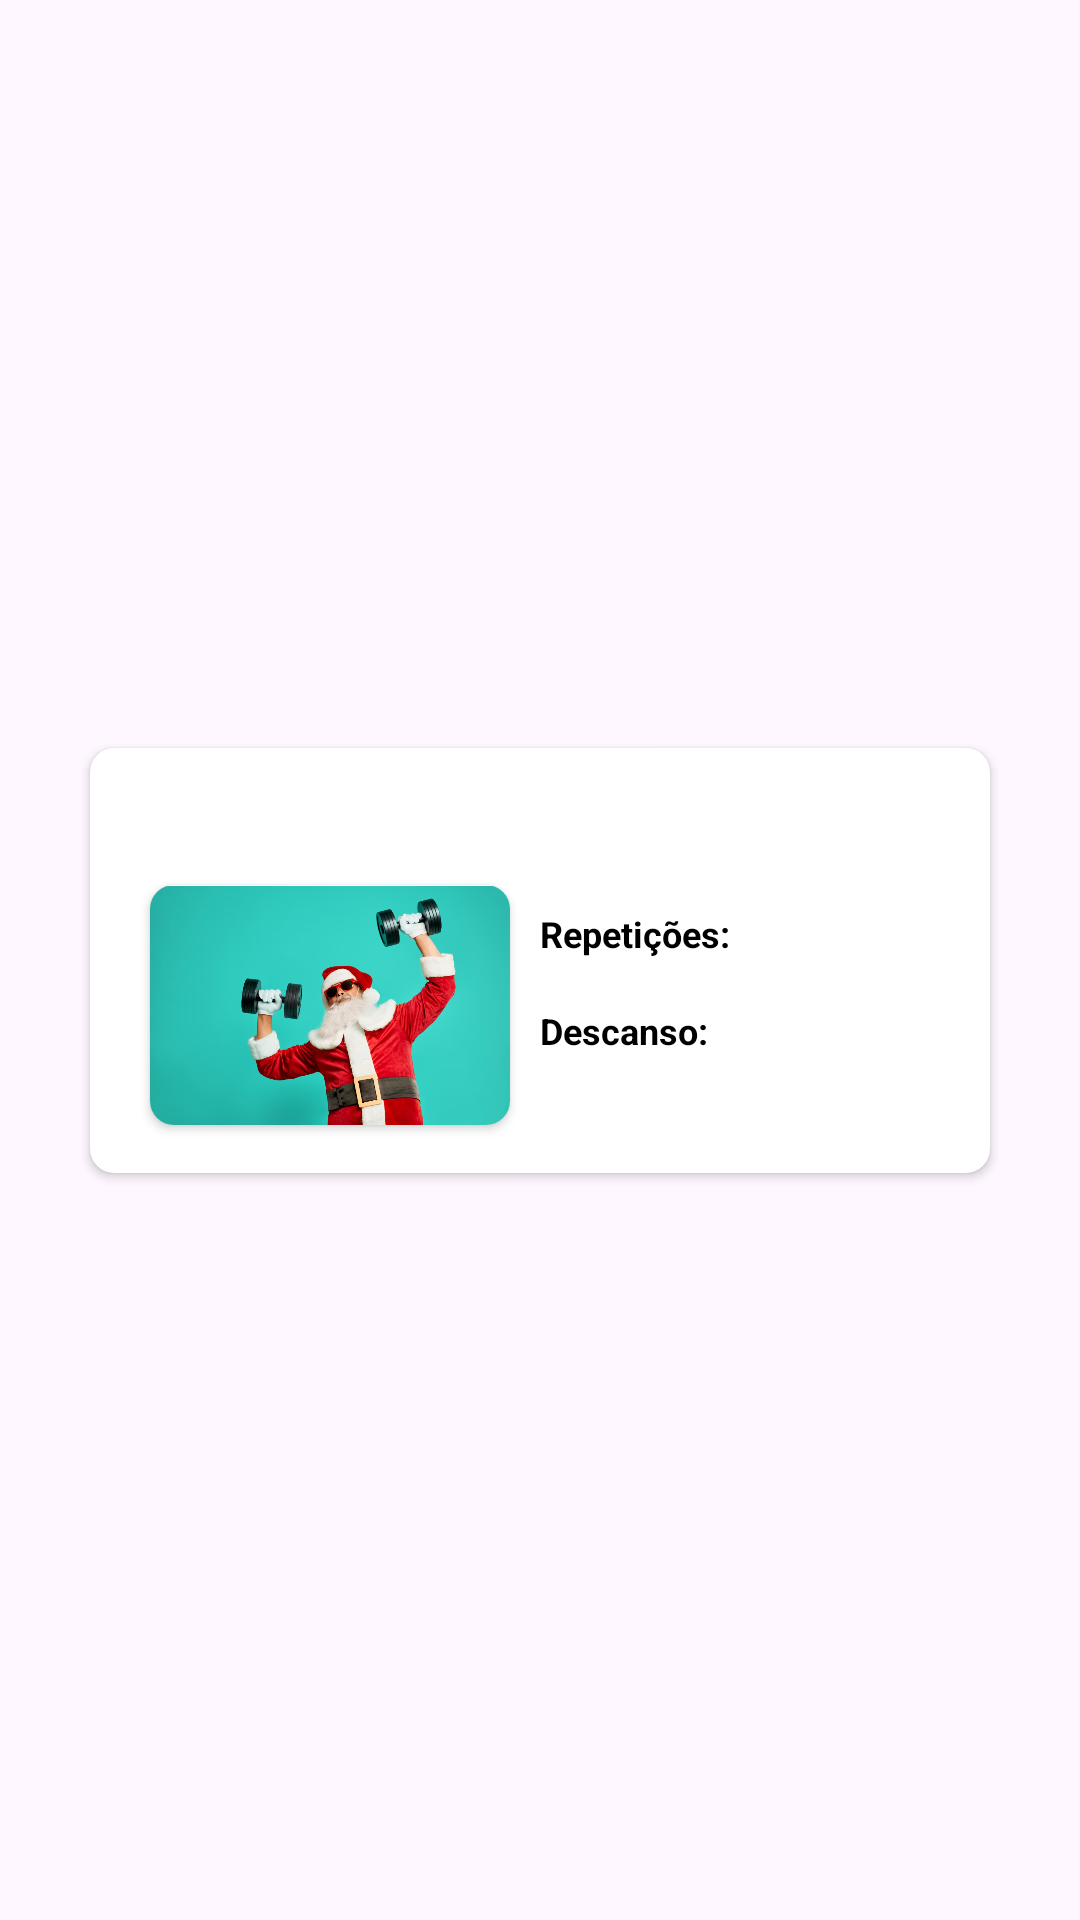

Icon bounding boxes for this 1080w x 1920h phone screenshot, format (x1, y1, x2, y2):
gym klaus: (150, 886, 510, 1125)
